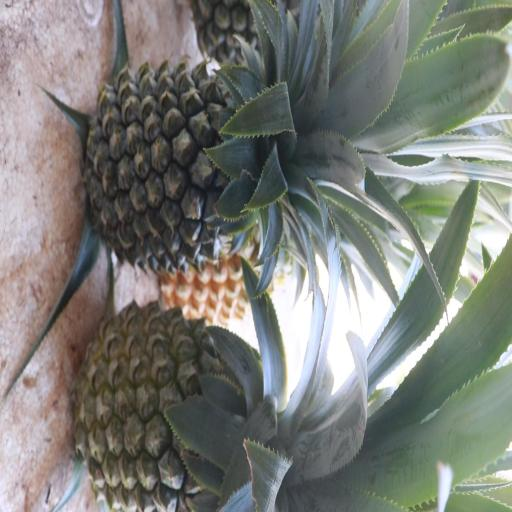------------------------------: (79, 302, 277, 502)
